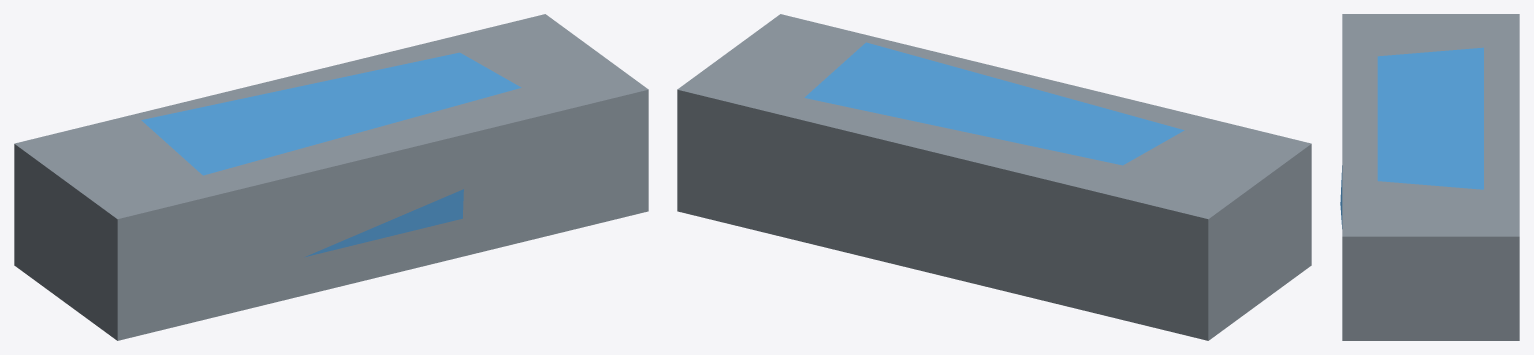
The model's file is AL_MantaPatrolCraft_LOD1.glb.
3 views of the same model, side by side, from view 1: azimuth 30°, elevation 25°; view 2: azimuth 150°, elevation 25°; view 3: azimuth 270°, elevation 25° (orthographic). The views are drawn at different scales.
Parts seen in each view (by area): view 1: EntranceGate; view 2: EntranceGate; view 3: EntranceGate.
Boxes of the visible parts, x1,y1,x2,y2 form: EntranceGate: [14, 14, 648, 340]; EntranceGate: [677, 14, 1311, 340]; EntranceGate: [1340, 14, 1519, 340].
Bounding box in the file's own units: 950 × 230 × 323.
